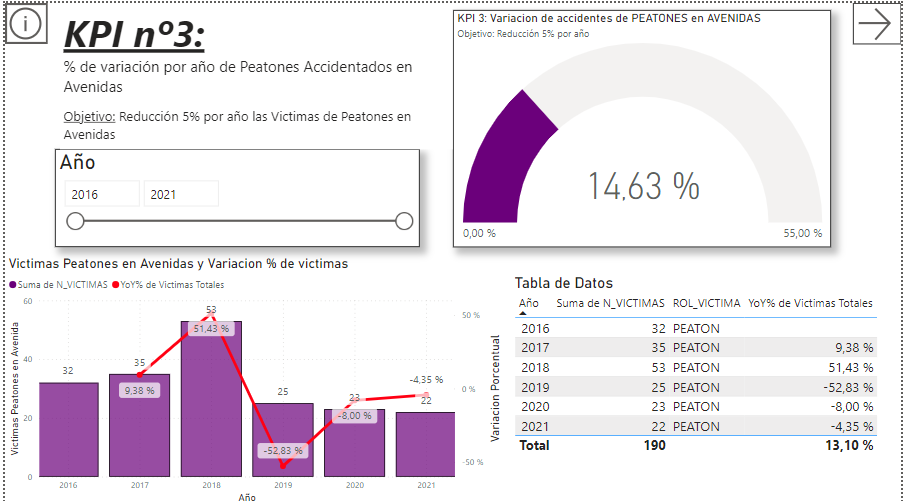

This screenshot's page, from the dashboard's own definition file:
{"tool":"powerbi","page":{"name":"KPI 3","canvas":[1280,720],"ordinal":4},"visuals":[{"type":"tableEx","title":"Tabla de Datos","fields":{"Values":["Calendario.Fechas.Variación.Jerarquía de fechas.Año","Sum(Accidentes y victimas.N_VICTIMAS)","Accidentes y victimas.ROL_VICTIMA","Accidentes y victimas.YoY% de Victimas Totales"]},"box":[722.9,387.1,557.1,332.9],"z":0},{"type":"lineStackedColumnComboChart","title":"Victimas Peatones en Avenidas y Variacion % de victimas","fields":{"Y":["Sum(Accidentes y victimas.N_VICTIMAS)"],"Category":["Calendario.Fechas.Variación.Jerarquía de fechas.Año"],"Y2":["Accidentes y victimas.YoY% de Victimas Totales"]},"box":[0,360,712.8,360],"z":1000},{"type":"gauge","title":"KPI 3: Variacion de accidentes de PEATONES en AVENIDAS","fields":{"Y":["Accidentes y victimas.YoY% de Victimas Totales"],"TargetValue":["Accidentes y victimas.Objetivo KPI3"]},"box":[640,10,540,338.6],"z":2000},{"type":"slicer","title":"Año","fields":{"Values":["Calendario.Año"]},"box":[71.4,208.6,521.4,140],"z":3000},{"type":"textbox","box":[78.6,0,561.4,208.6],"z":4000},{"type":"actionButton","box":[0,0,61.4,58.6],"z":5000},{"type":"actionButton","box":[1211.4,0,68.6,58.6],"z":5001}]}

Visuals, with their boxes in screenshot pixels (x1, y1, x2, y2), scaled from the page's 1280x720 canvas onto the 905x501 screenshot:
"Tabla de Datos" tableEx: bbox=(511, 269, 904, 500)
"Victimas Peatones en Avenidas y Variacion % de victimas" lineStackedColumnComboChart: bbox=(0, 250, 504, 500)
"KPI 3: Variacion de accidentes de PEATONES en AVENIDAS" gauge: bbox=(452, 7, 834, 243)
"Año" slicer: bbox=(50, 145, 419, 243)
textbox: bbox=(56, 0, 452, 145)
actionButton: bbox=(0, 0, 43, 41)
actionButton: bbox=(856, 0, 904, 41)
